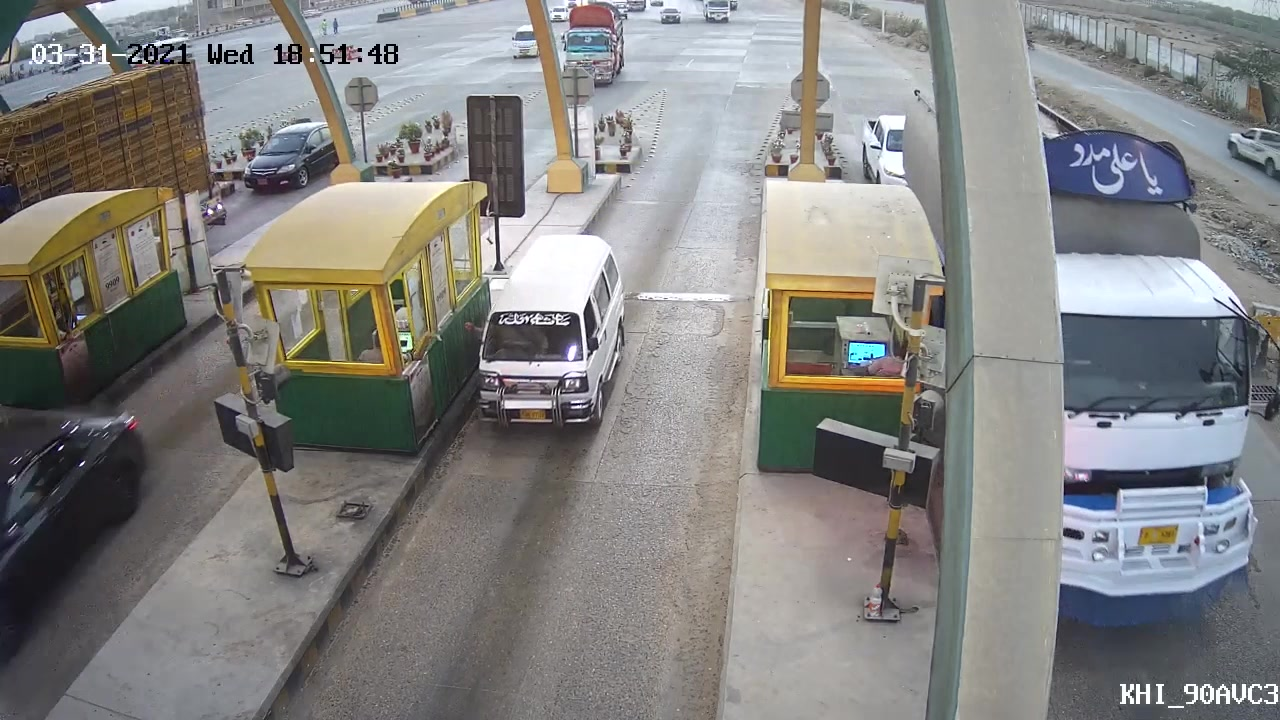F2: (470, 229, 628, 436)
